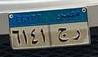1: (40, 28, 47, 43), (22, 29, 28, 45)
4: (29, 27, 38, 46)
6: (12, 29, 21, 45)
jeem: (56, 26, 69, 44)
raa: (70, 27, 82, 42)
